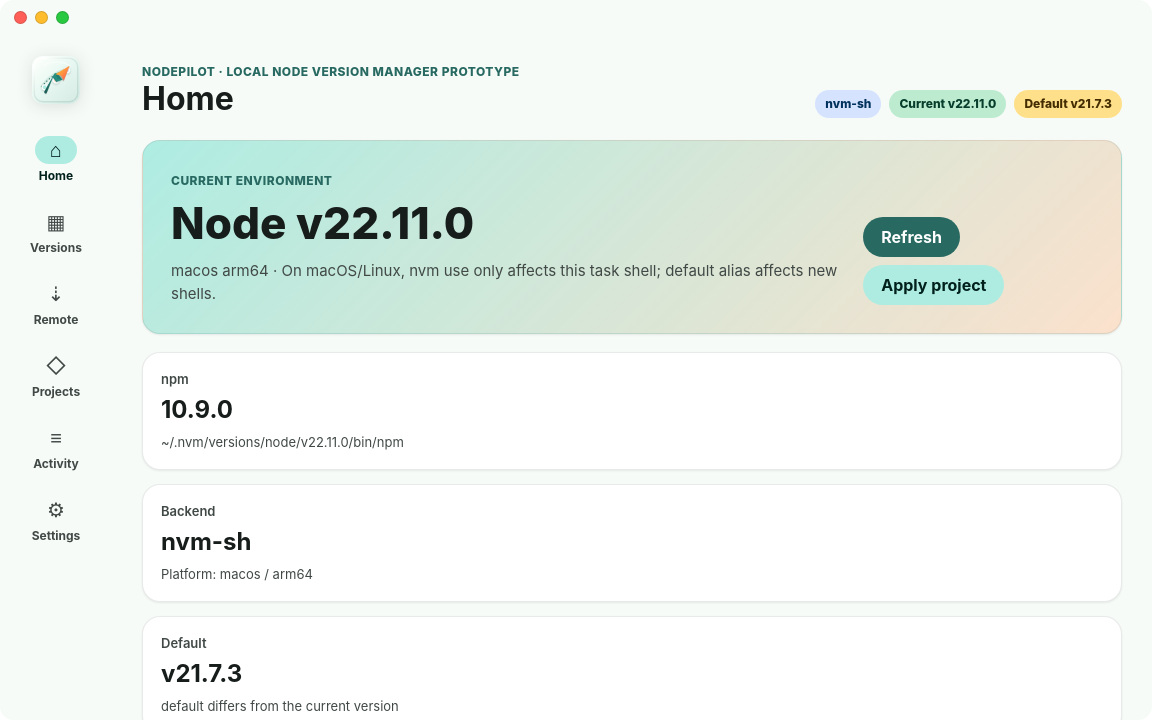
App › renders installed versions from the backend snapshot
expect the heading "Node v22.11.0" is shown: met, box top-left (171, 196), bottom-right (474, 250)
Click the button with aria-label "Open Versions": coordinates (56, 232) top-left (14, 200), bottom-right (98, 264)
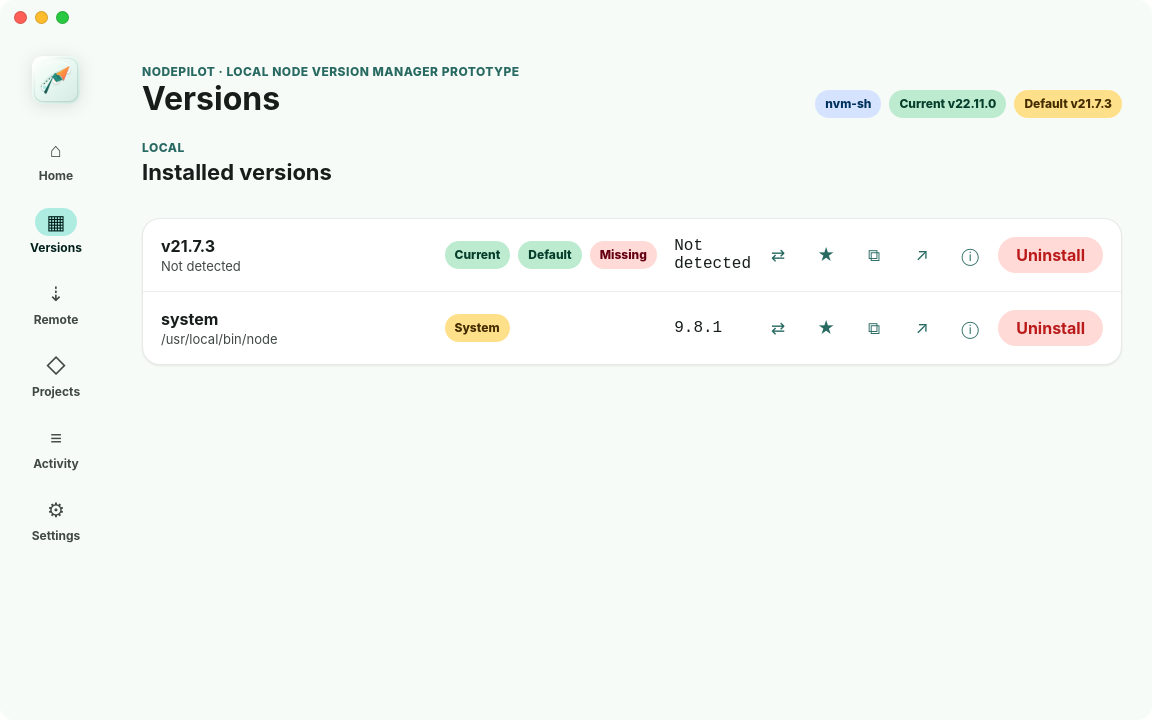
expect the heading "v21.7.3" is shown: met, box top-left (161, 236), bottom-right (215, 256)
expect the 2nd text "Not detected" is shown: met, box top-left (161, 258), bottom-right (241, 274)
expect the heading "system" is shown: met, box top-left (161, 309), bottom-right (218, 329)
